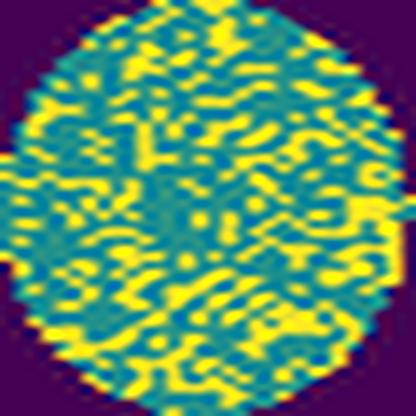Near-full: (0, 0, 415, 416)
